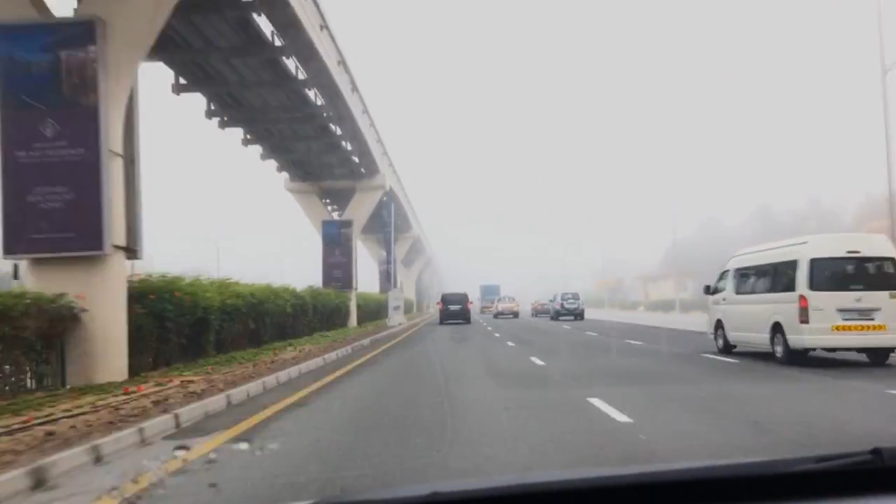car: (700, 231, 896, 364), (436, 291, 474, 325), (548, 291, 586, 322), (478, 284, 503, 316), (492, 294, 521, 318), (529, 298, 556, 318)
